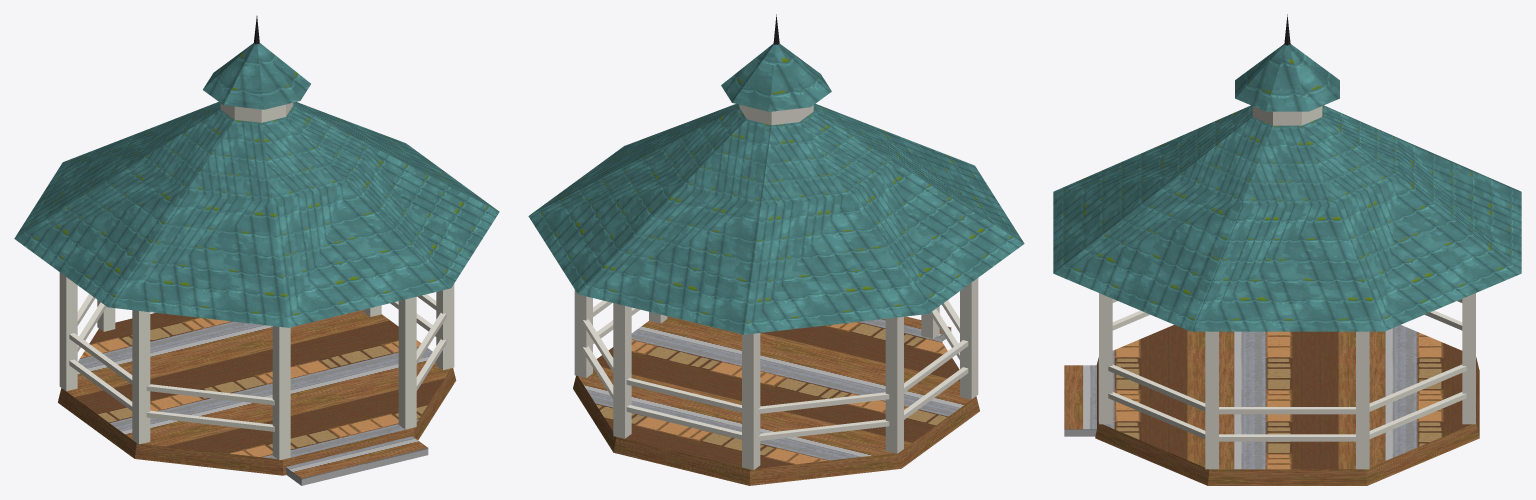
File: gazebo.glb
3 views of the same model, side by side, from view 1: azimuth 30°, elevation 25°; view 2: azimuth 150°, elevation 25°; view 3: azimuth 270°, elevation 25° (orthographic). The views are drawn at different scales.
Visible parts, largest first — view 1: Roof.024, Floor.001, CupolaRoof.026, Step.028, Post.009, Post.008, Post.002, Post.007, Post.003, Rail.023, Rail.022, Cupola.025 (+2 smaller); view 2: Roof.024, Floor.001, CupolaRoof.026, Post.006, Post.007, Post.005, Post.008, Post.004, Rail.019, Rail.018, Rail.016, Rail.017 (+3 smaller); view 3: Roof.024, Floor.001, CupolaRoof.026, Step.028, Post.003, Post.004, Post.002, Post.005, Rail.012, Rail.013, Cupola.025, Rail.010 (+3 smaller).
Part boxes in pixels (x1,y1,x2,y2): Roof.024: (14,102,499,327); Floor.001: (58,309,456,475); CupolaRoof.026: (203,43,310,109); Step.028: (285,436,428,485); Post.009: (272,326,290,460); Post.008: (132,310,150,444); Post.002: (398,297,416,429); Post.007: (59,272,77,391); Post.003: (436,284,454,370); Rail.023: (146,384,274,405); Rail.022: (146,410,274,431); Cupola.025: (220,103,293,122); Roof.024: (528,103,1024,334); Floor.001: (573,316,979,485); CupolaRoof.026: (721,43,831,111); Post.006: (742,333,760,470); Post.007: (885,316,903,453); Post.005: (613,303,631,438); Post.008: (960,278,978,399); Post.004: (574,289,592,377); Rail.019: (758,392,889,413); Rail.018: (758,419,889,440); Rail.016: (626,405,741,439); Rail.017: (626,378,741,412); Roof.024: (1053,105,1521,331); Floor.001: (1095,325,1479,485); CupolaRoof.026: (1235,44,1339,111); Step.028: (1064,365,1096,436); Post.003: (1205,331,1218,469); Post.004: (1356,331,1369,469); Post.002: (1099,293,1112,424); Post.005: (1462,293,1475,424); Rail.012: (1219,434,1355,441); Rail.013: (1219,407,1355,414); Cupola.025: (1252,106,1322,125); Rail.010: (1108,392,1205,438).
Size of the model in its own units: 6.19 by 5.7 by 6.19.
4 materials, 2 textured.
